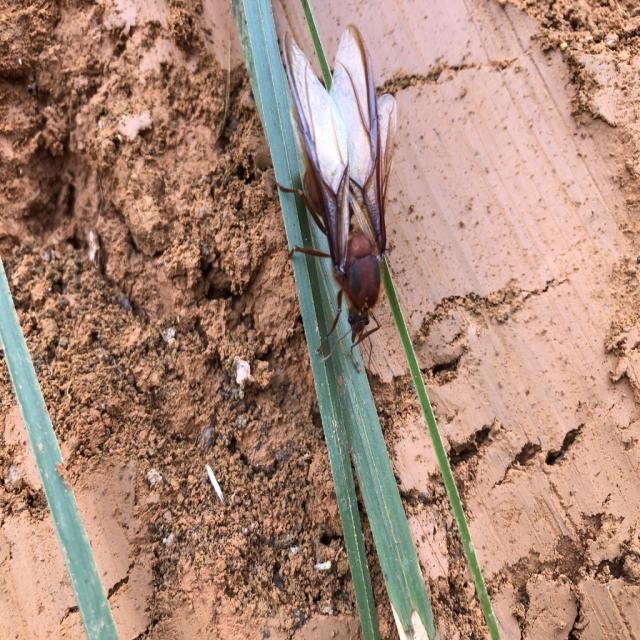Alive-Male-Alate: (257, 24, 397, 381)
